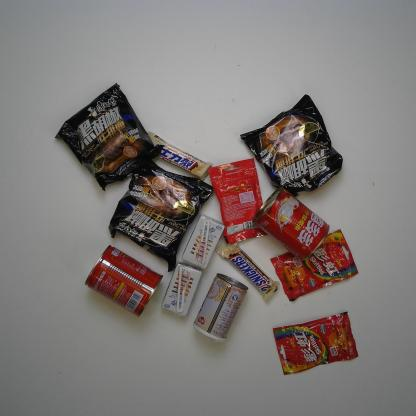Candy: (268, 226, 359, 304), (271, 310, 361, 378), (206, 157, 268, 244)
Canned Food: (82, 242, 166, 319), (251, 187, 332, 261), (190, 270, 251, 345)
Chocolate: (215, 242, 281, 303), (145, 130, 213, 182)
Instant Noodles: (52, 80, 166, 193), (107, 158, 215, 272), (237, 91, 345, 196)
Milk: (180, 212, 226, 273), (159, 260, 203, 320)
